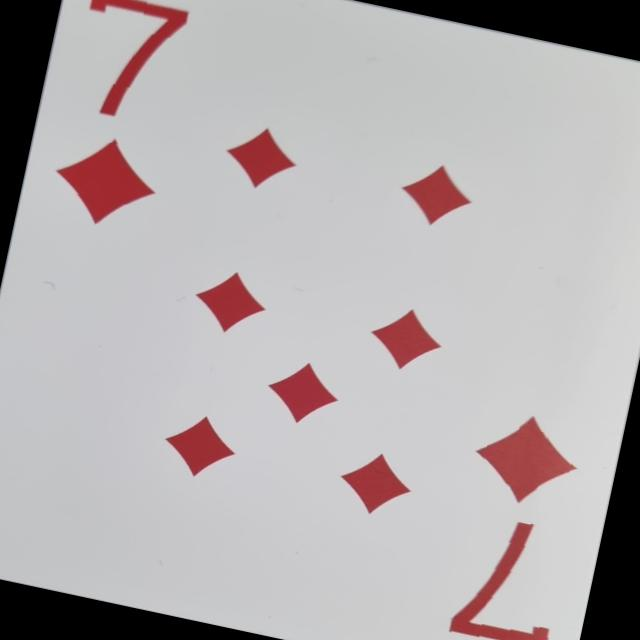7d: (28, 0, 213, 255), (425, 391, 603, 640)
